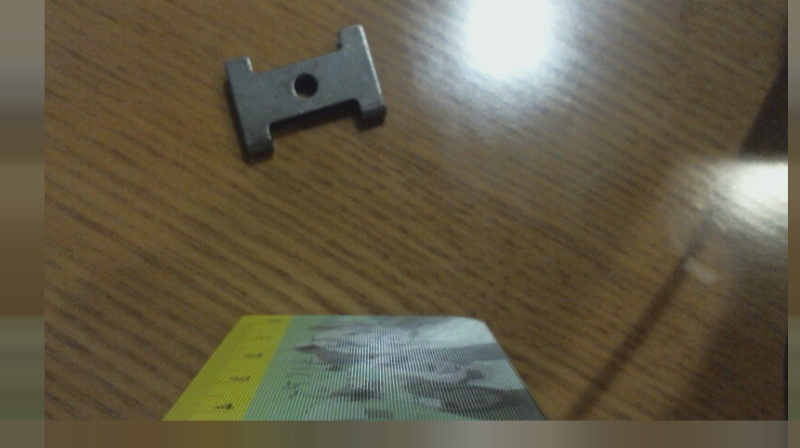O002: (220, 22, 388, 165)
